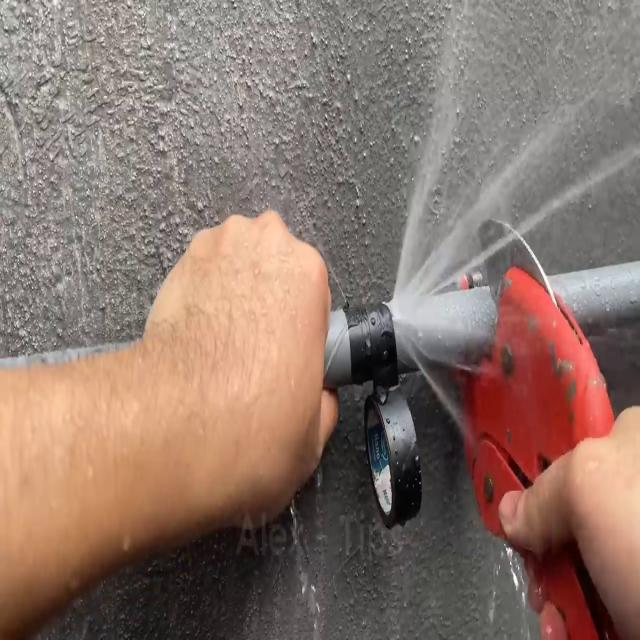leak: (388, 0, 640, 640)
